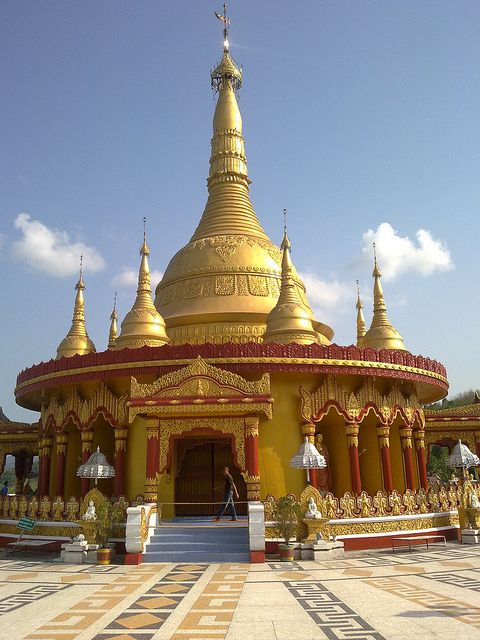Temple: (17, 26, 452, 537)
